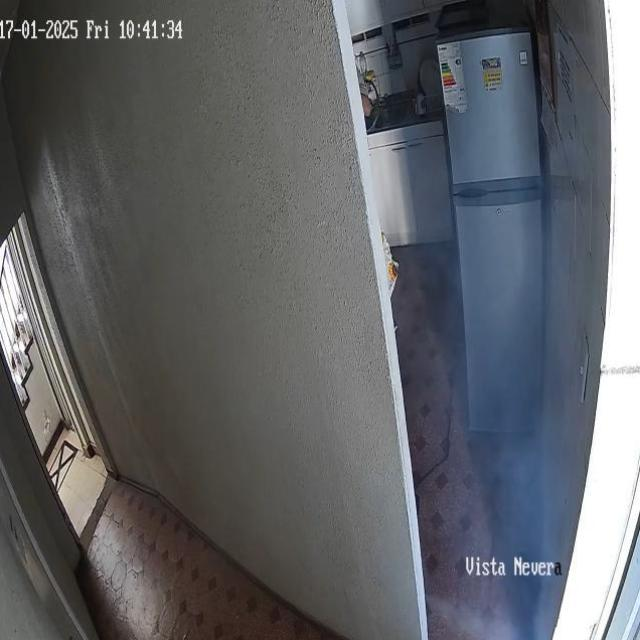fire: (418, 309, 568, 640)
